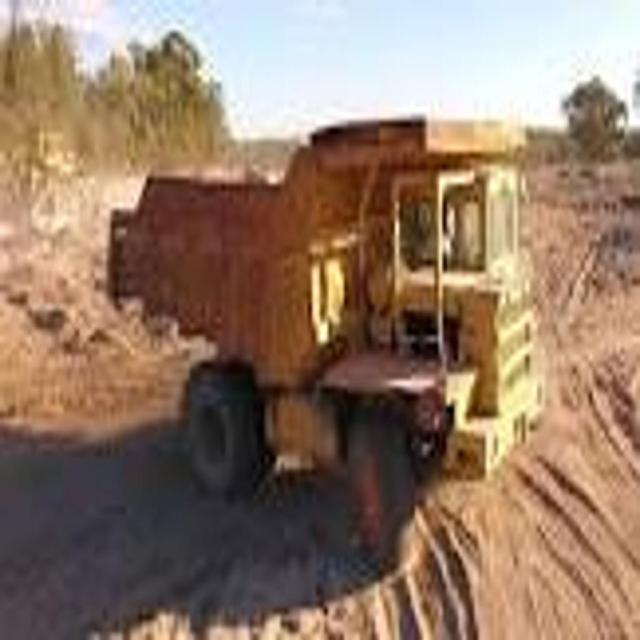dump_truck: (105, 103, 550, 548)
